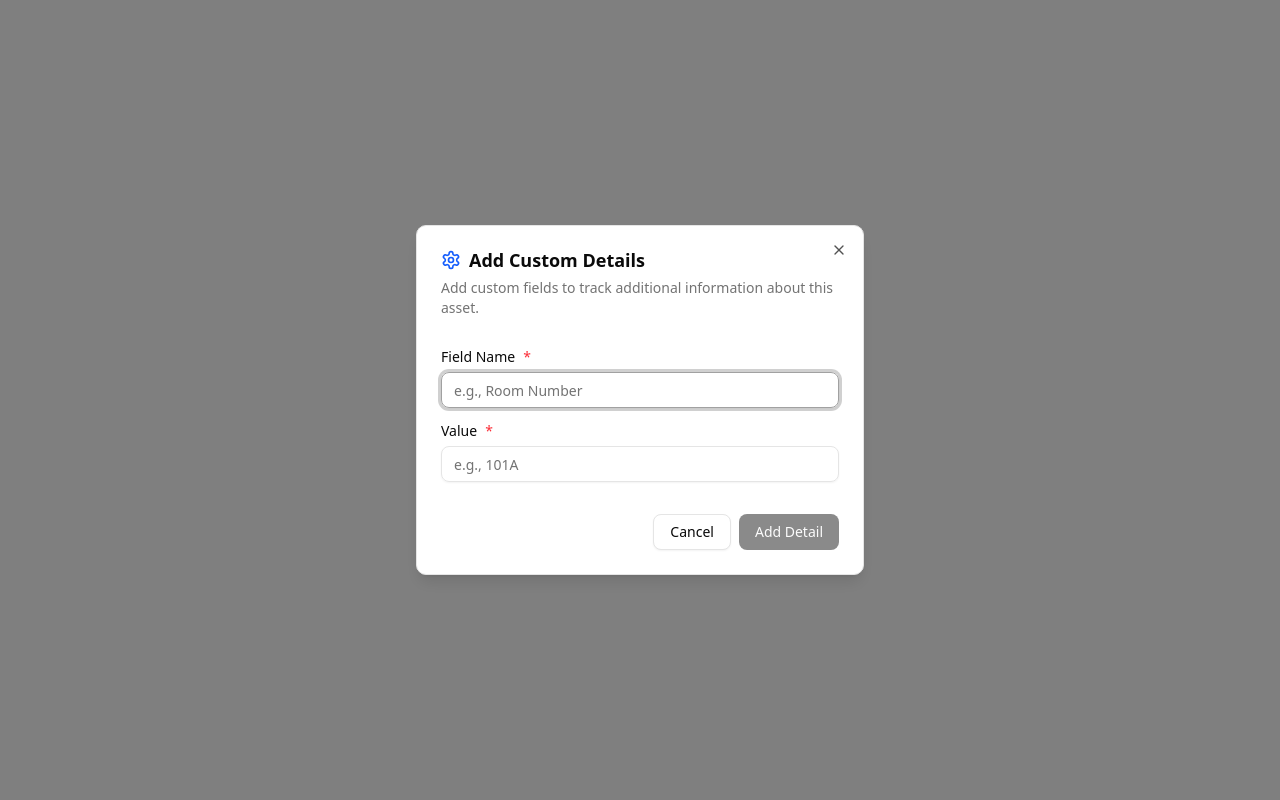
Scenario: CustomDetailsDialog › should enable save button when both fields are filled
In the field labelled "Field Name *": [640, 390] box [441, 372, 839, 408], type "Room Number"
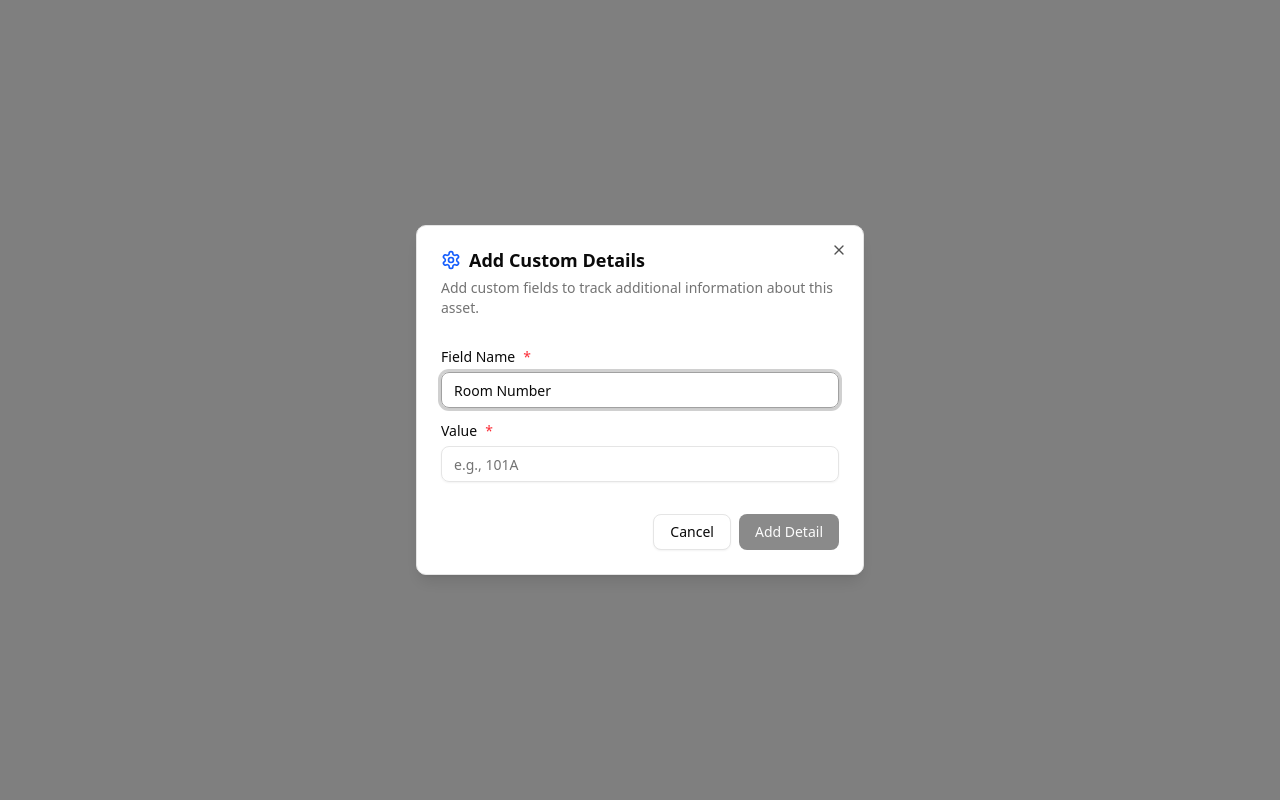
In the field labelled "Value *": [640, 464] box [441, 446, 839, 482], type "101A"
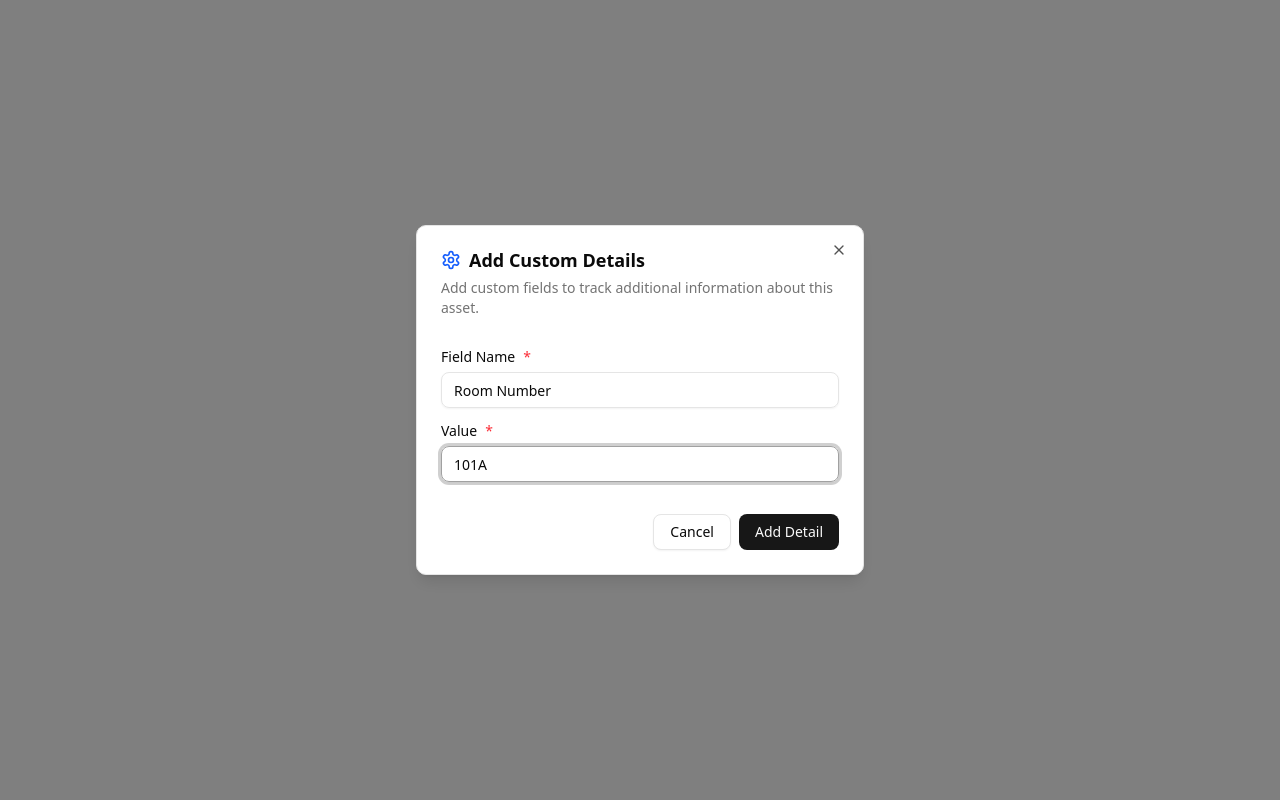
Result: the button "Add Detail" is enabled at [739, 514, 839, 550]
